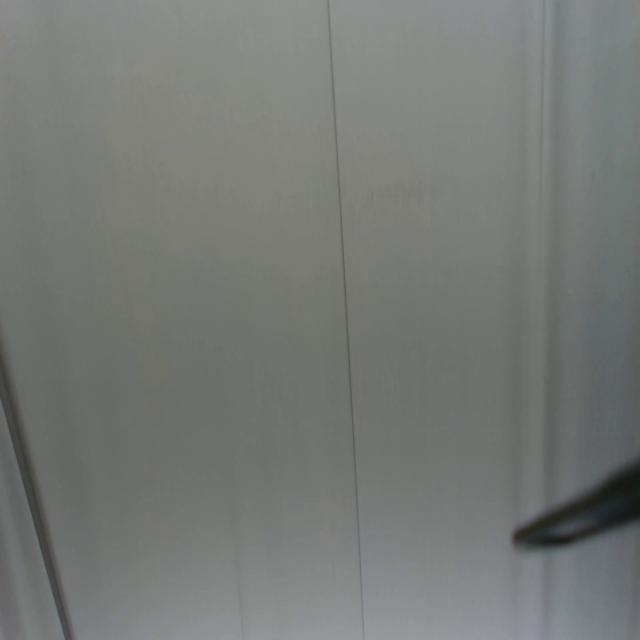crease: (325, 1, 370, 636), (0, 371, 71, 639)
